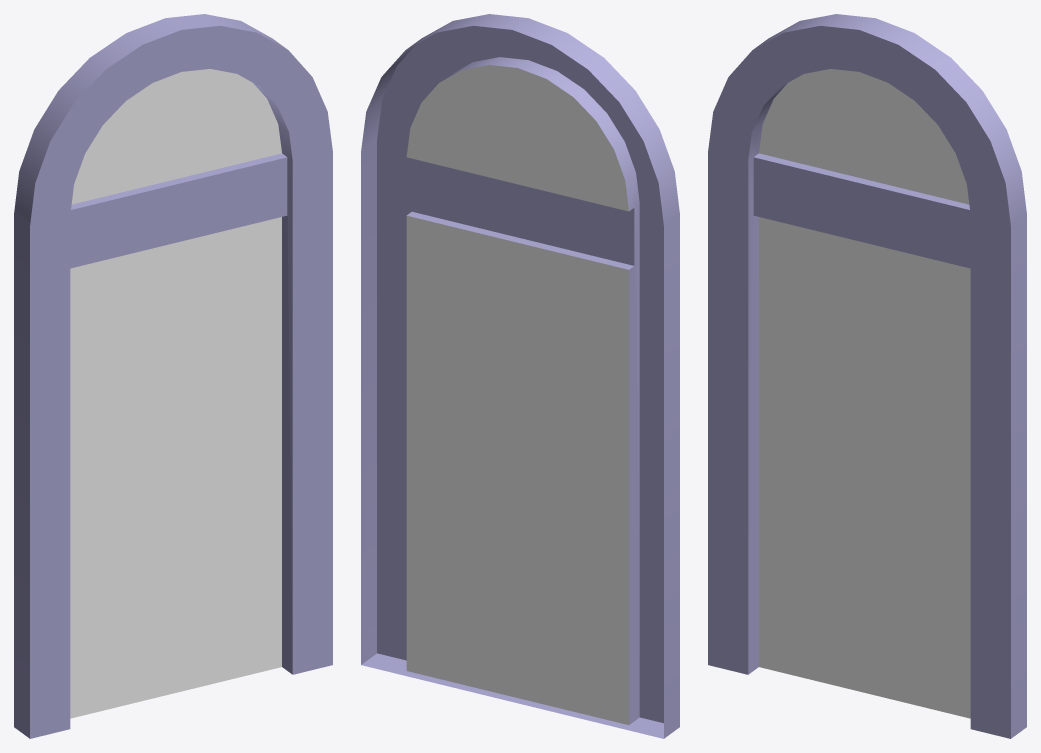
File: door3.obj
The picture shows the model from 3 angles, left to right: view 1: azimuth 30°, elevation 25°; view 2: azimuth 150°, elevation 25°; view 3: azimuth 330°, elevation 25°; orthographic projection.
Visible parts, largest first — view 1: mergedBlocks; view 2: mergedBlocks; view 3: mergedBlocks.
Part boxes in pixels (<box>): mergedBlocks: <box>14,14,332,738</box>; mergedBlocks: <box>361,14,679,738</box>; mergedBlocks: <box>708,14,1026,738</box>.
Size of the model in its own units: 0.326 by 0.6915 by 0.03.
